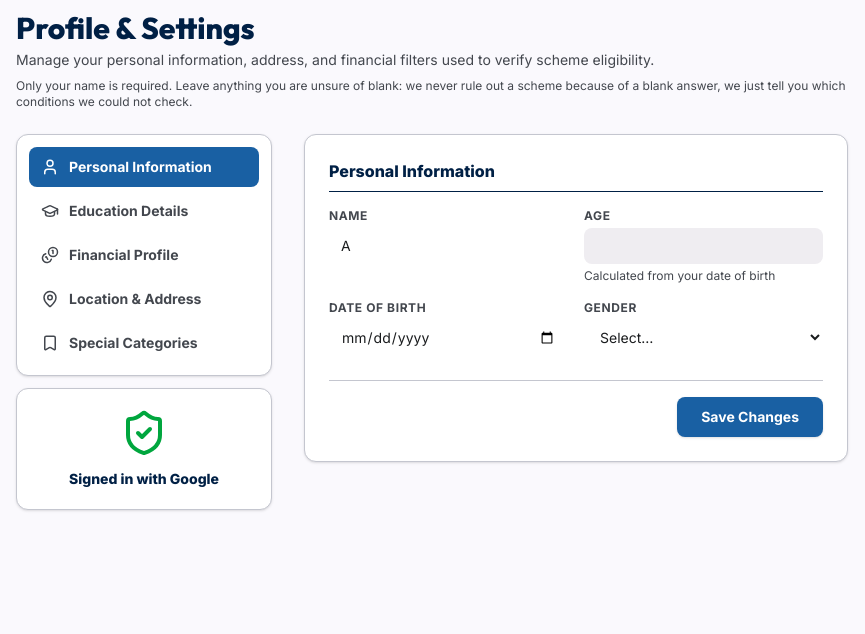
Test: Profile form: only the name is required › does not save a name that is too short, and says why
Click the button "Save Changes" at (750, 417), box [677,397,823,437]
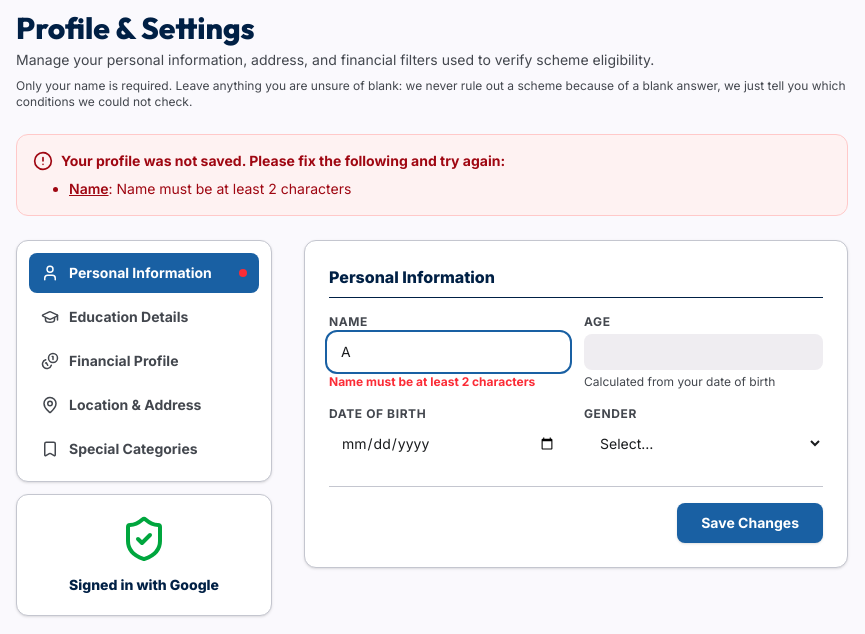
Now the message shows "Your profile was not saved", box [61,152,505,169]
Now the message shows "Name must be at least 2 characters", box [116,180,351,197]
